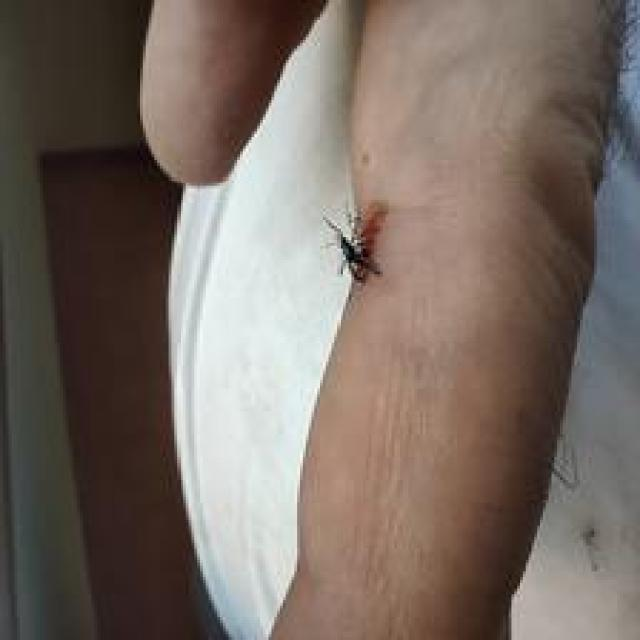Aedes albopictus: (322, 203, 387, 286)
